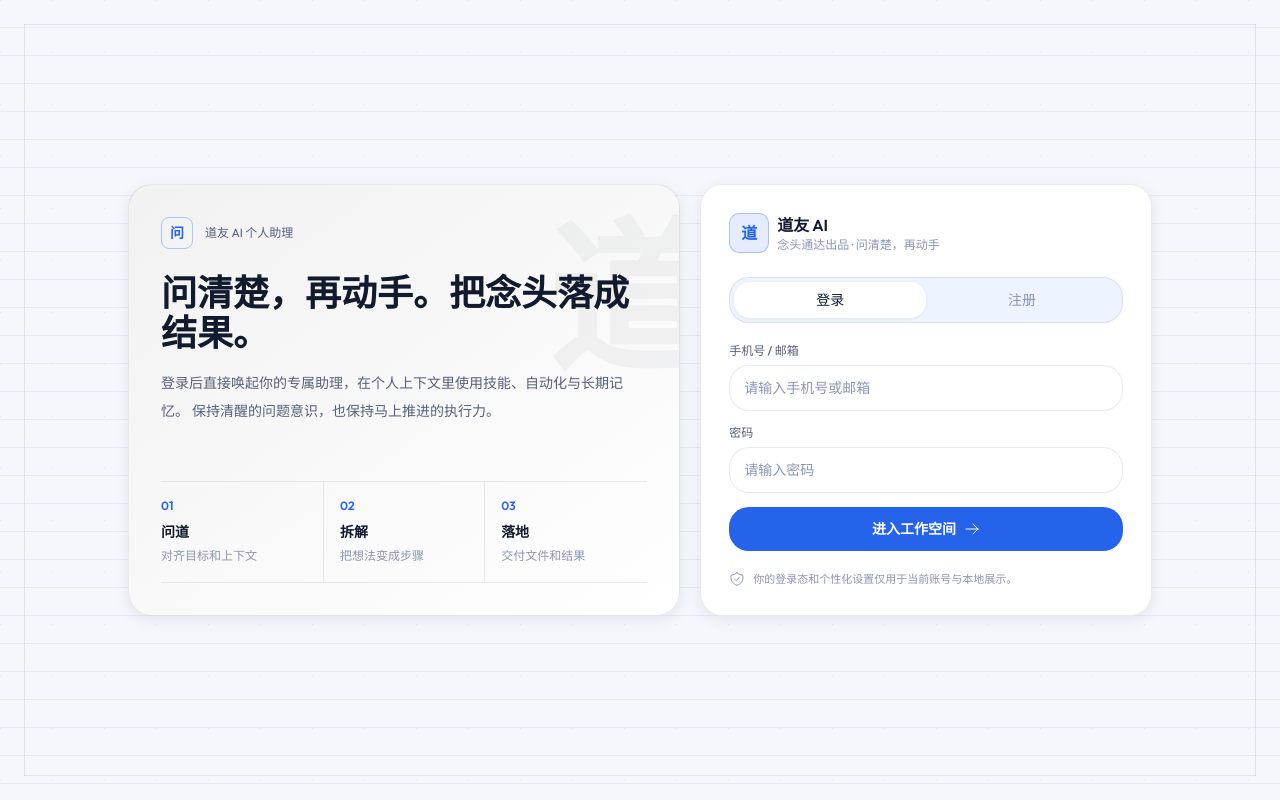
Test: LoginPage › does not display internal login errors
The width and height of the screenshot is (1280, 800).
Step 1. Type "user@example.com" into the field with placeholder "请输入手机号或邮箱" → (926, 388), box [729, 365, 1123, 411]
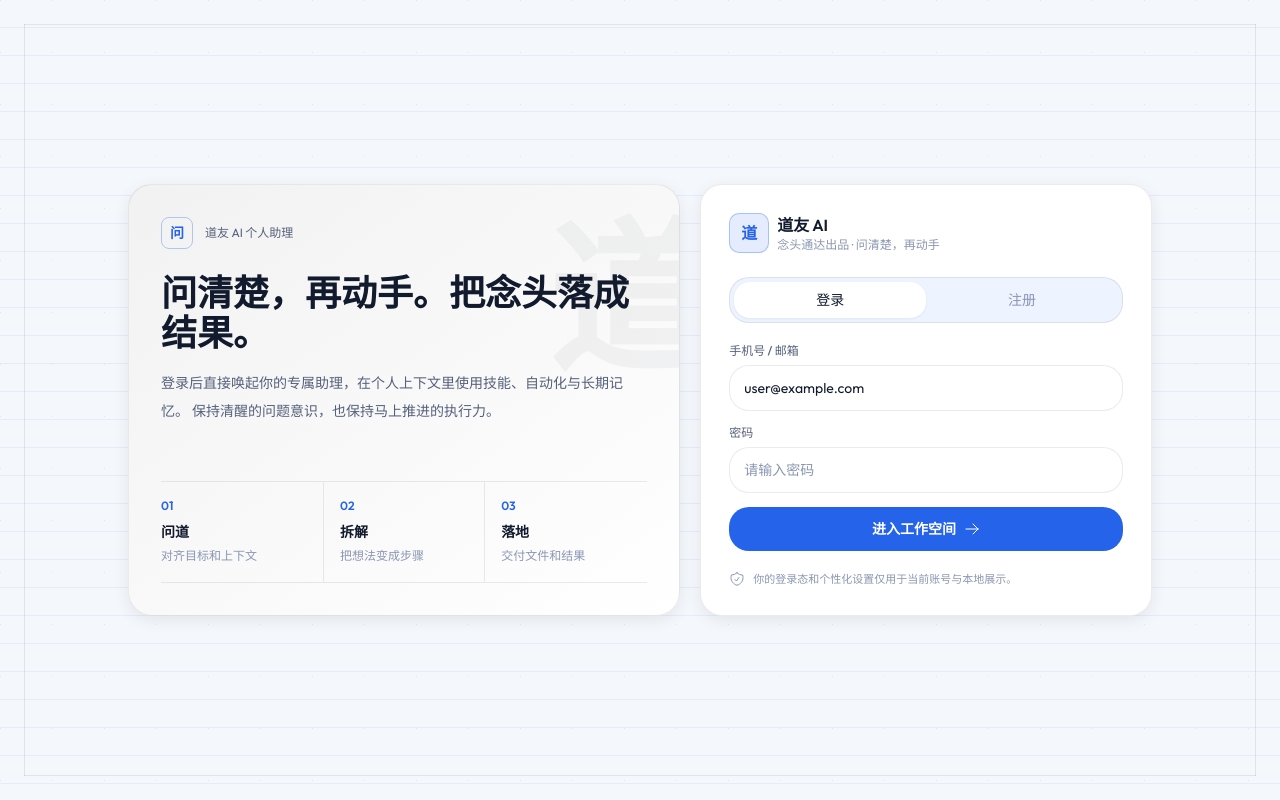
Step 2. Type "password" into the password field with placeholder "请输入密码" → (926, 470), box [729, 447, 1123, 493]
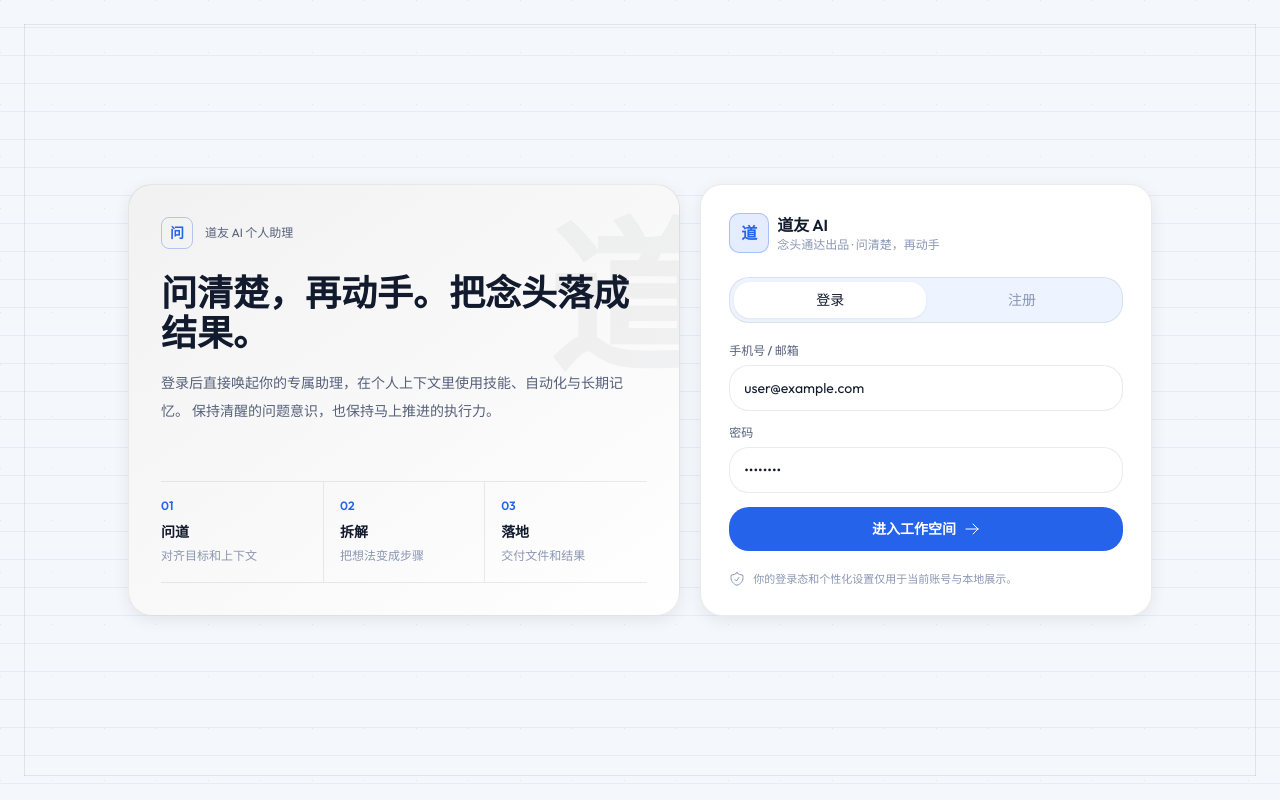
Step 3. Click the button "进入工作空间" → (926, 529), box [729, 507, 1123, 551]
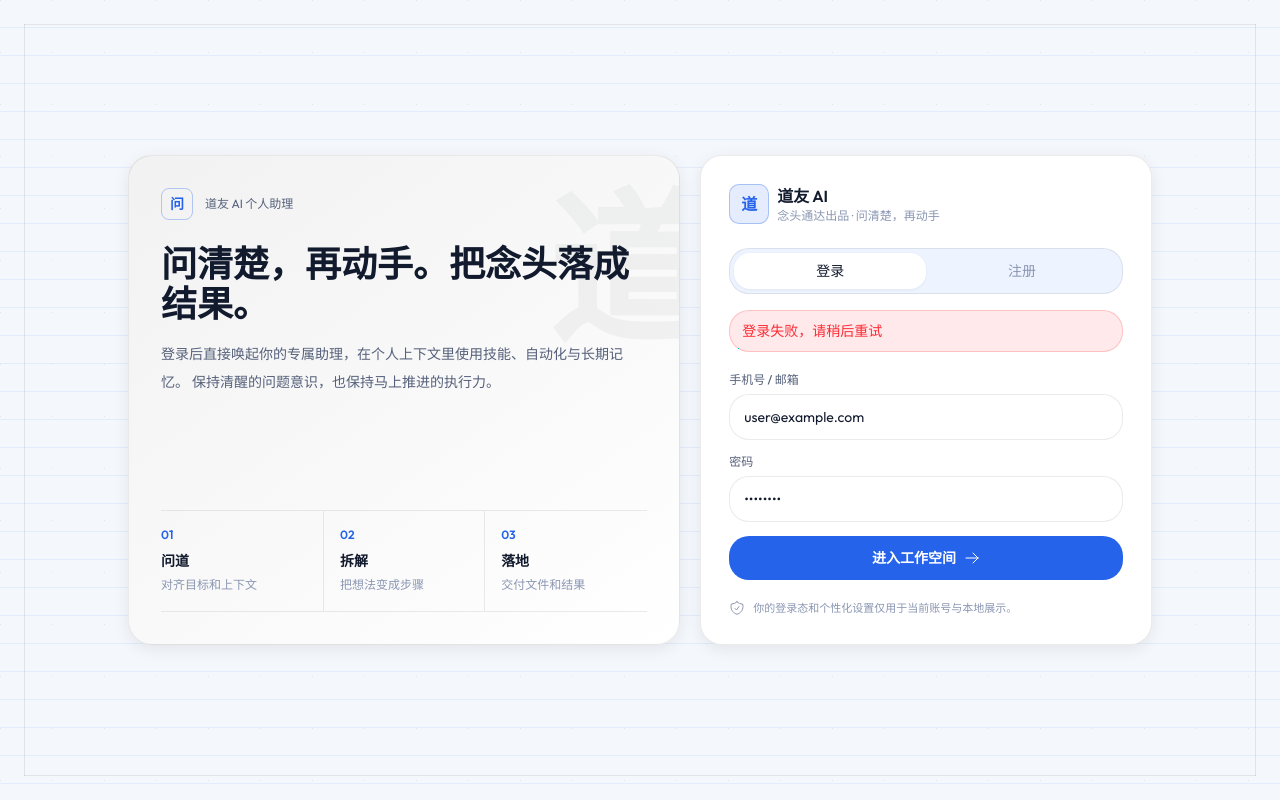
Check: the text "登录失败，请稍后重试" is shown, box [729, 310, 1123, 352]
